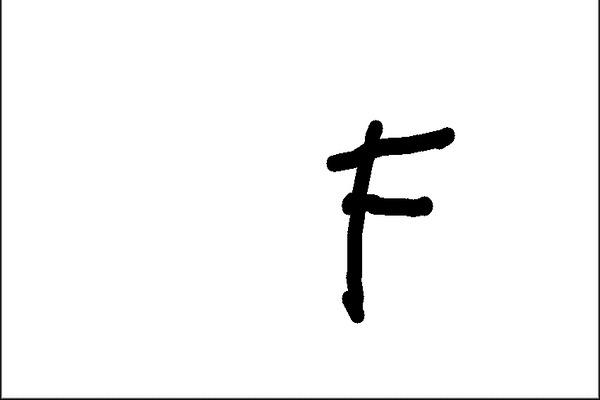F: (322, 116, 457, 324)
